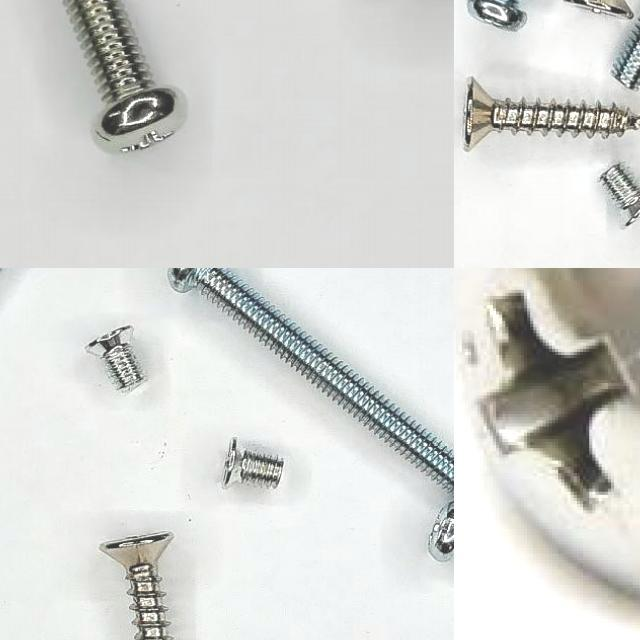Screw: (169, 268, 454, 495), (454, 268, 640, 613), (62, 0, 186, 151), (463, 77, 640, 152), (100, 532, 174, 640), (84, 324, 144, 390), (222, 437, 284, 489), (601, 164, 640, 227)
